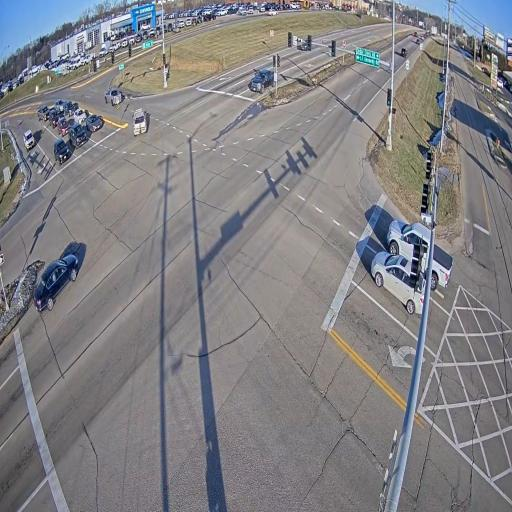pickup: (249, 70, 275, 93), (68, 122, 87, 147), (105, 88, 123, 106), (24, 130, 35, 150), (38, 106, 49, 120)
sedan: (370, 251, 426, 314), (34, 252, 78, 312), (86, 114, 102, 132), (74, 108, 86, 124)
suv: (54, 138, 71, 165), (133, 109, 146, 136), (63, 100, 76, 117), (57, 117, 69, 135), (49, 109, 60, 128), (55, 99, 64, 111)
